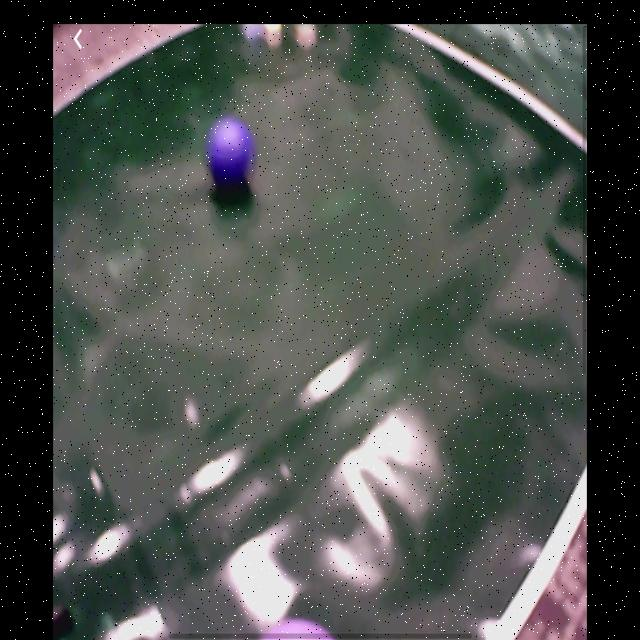ball: (207, 116, 253, 185), (259, 618, 337, 640)
